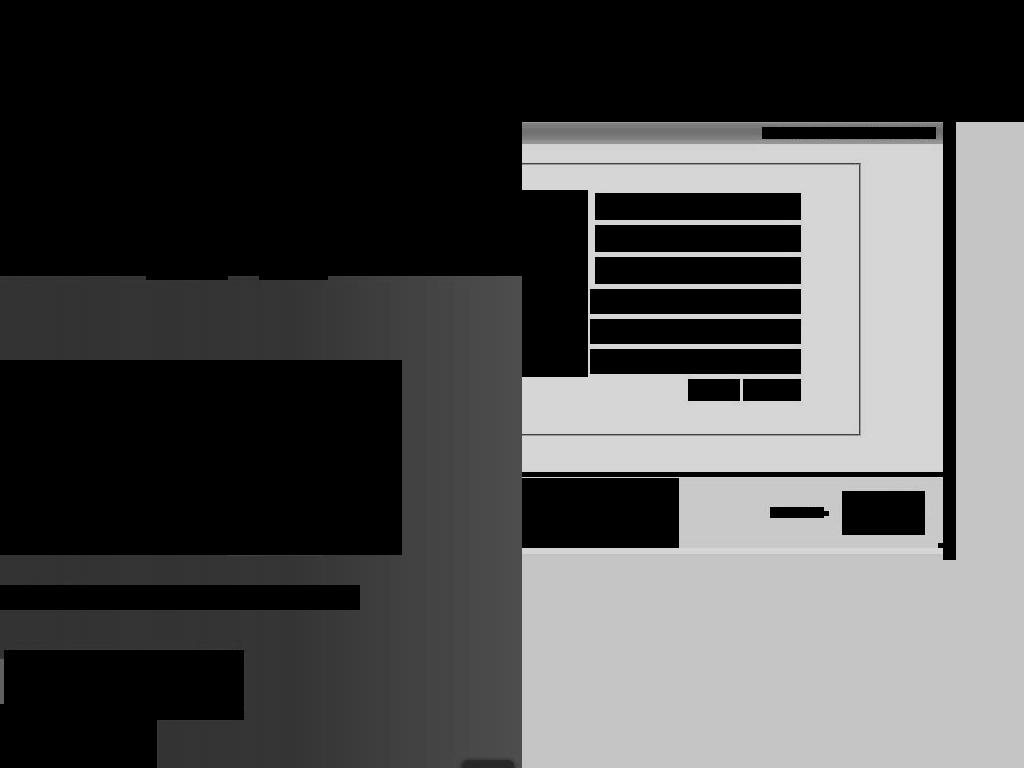button: (4, 650, 244, 720), (146, 198, 228, 280), (202, 156, 347, 202), (259, 198, 328, 280), (434, 201, 522, 246), (417, 156, 501, 202), (28, 218, 115, 260), (346, 156, 418, 202), (359, 218, 435, 260), (408, 0, 489, 18), (259, 122, 399, 127)
field: (595, 193, 801, 220), (595, 225, 801, 252), (595, 257, 801, 284), (590, 289, 801, 314), (590, 319, 801, 344), (590, 349, 801, 374), (743, 379, 801, 401), (688, 379, 740, 401)
heading: (0, 360, 402, 555)
image: (0, 151, 522, 276), (0, 0, 522, 122), (297, 0, 522, 122), (842, 491, 925, 535), (416, 0, 489, 43), (90, 0, 184, 26), (311, 71, 332, 92), (943, 548, 956, 560), (823, 511, 829, 516), (938, 543, 944, 548)
link: (762, 127, 936, 139), (45, 107, 130, 122)
text: (522, 0, 1024, 122), (522, 478, 679, 548), (0, 704, 157, 768), (0, 585, 360, 610), (943, 145, 956, 548), (522, 472, 944, 477), (45, 72, 117, 94), (522, 190, 560, 223), (522, 222, 560, 255), (522, 254, 560, 287), (522, 286, 560, 317), (522, 316, 560, 347), (522, 346, 560, 377), (559, 190, 588, 223), (559, 222, 588, 255), (559, 254, 588, 287), (559, 286, 588, 317), (559, 316, 588, 347), (559, 346, 588, 377), (336, 72, 387, 89), (770, 507, 824, 518)
